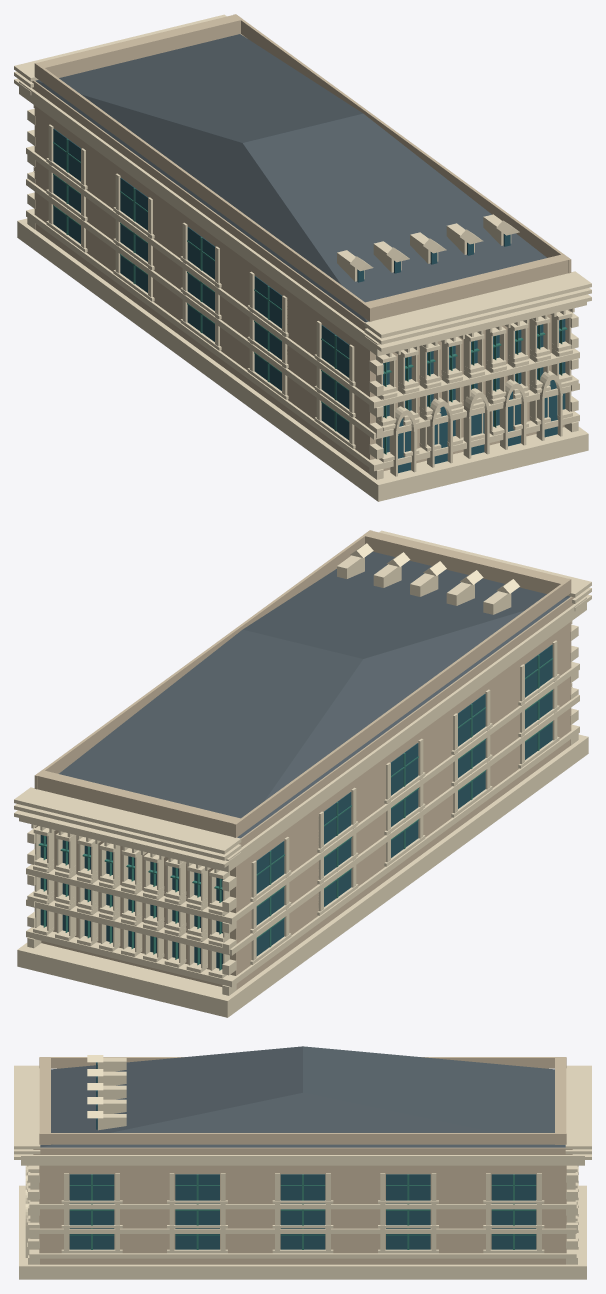
Rendered from banque-indochine.glb.
3 views of the same model, one above another, from view 1: azimuth 30°, elevation 25°; view 2: azimuth 150°, elevation 25°; view 3: azimuth 270°, elevation 25° (orthographic). The views are drawn at different scales.
Parts seen in each view (by area): view 1: banque-indochine; view 2: banque-indochine; view 3: banque-indochine.
Boxes of the visible parts, x1,y1,x2,y2 form: banque-indochine: (14, 14, 591, 501); banque-indochine: (14, 530, 591, 1017); banque-indochine: (14, 1046, 591, 1279).
Bounding box in the file's own units: 20.83 × 20.4 × 62.98.
